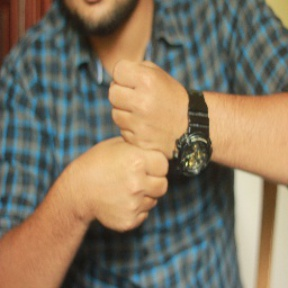G: (84, 56, 187, 231)
